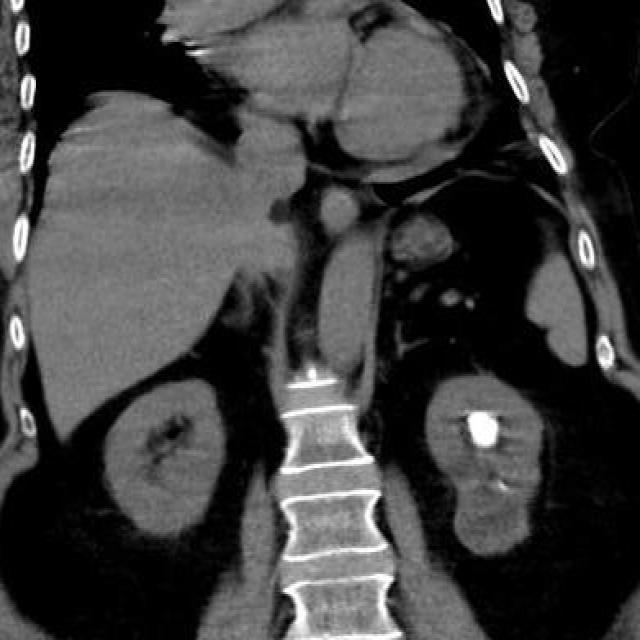Tas_Var: (465, 408, 502, 454), (496, 477, 507, 493)
